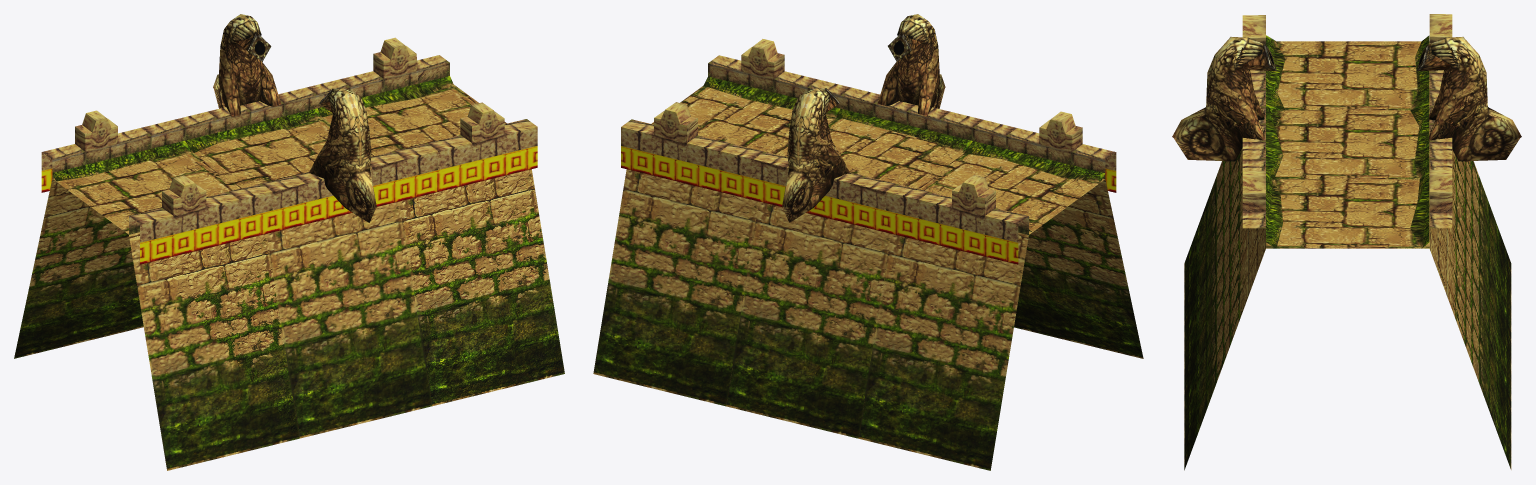
Rendered from flameTower.fbx.
3 views of the same model, side by side, from view 1: azimuth 30°, elevation 25°; view 2: azimuth 150°, elevation 25°; view 3: azimuth 270°, elevation 25° (orthographic). The views are drawn at different scales.
Parts seen in each view (by area): view 1: templeStraightFlameTowerHighHorz_prefab; view 2: templeStraightFlameTowerHighHorz_prefab; view 3: templeStraightFlameTowerHighHorz_prefab.
Part boxes in pixels (x1=…): templeStraightFlameTowerHighHorz_prefab: x1=14, y1=14, x2=564, y2=470; templeStraightFlameTowerHighHorz_prefab: x1=593, y1=14, x2=1143, y2=470; templeStraightFlameTowerHighHorz_prefab: x1=1172, y1=14, x2=1521, y2=470.
Size of the model in its own units: 6000 by 4490 by 4281.
